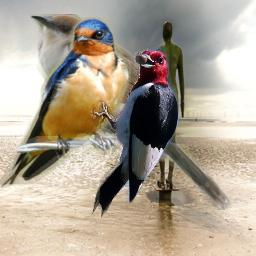Cuckoo: (29, 14, 231, 210)
Swallow: (0, 17, 131, 188)
Woodpecker: (86, 39, 181, 224)
